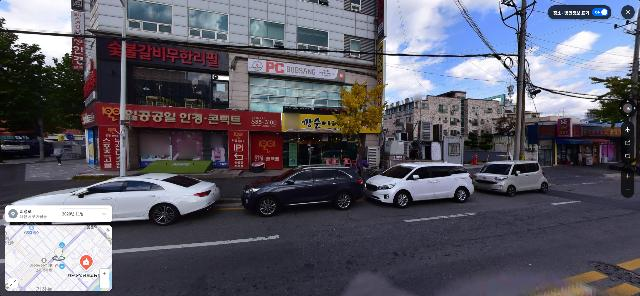ginkgo: (327, 79, 389, 175)
other: (0, 17, 90, 160), (586, 54, 639, 126), (492, 116, 516, 136)
